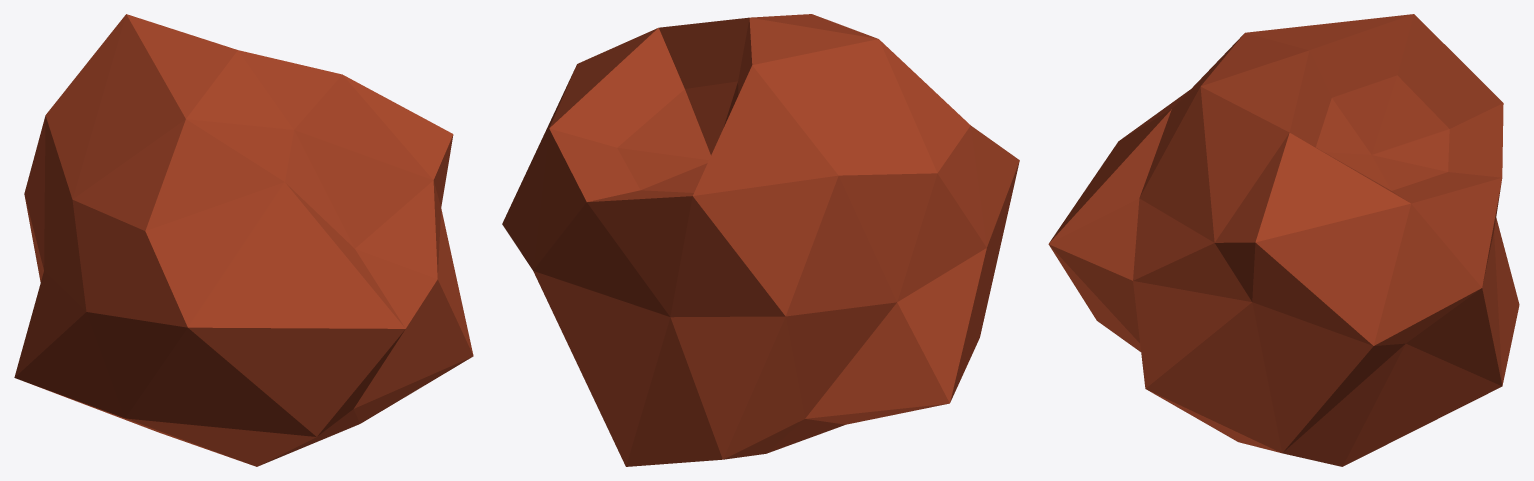
File: asteroid_no_tex.obj
3 views of the same model, side by side, from view 1: azimuth 30°, elevation 25°; view 2: azimuth 150°, elevation 25°; view 3: azimuth 270°, elevation 25° (orthographic). The views are drawn at different scales.
Visible parts, largest first — view 1: Icosphere; view 2: Icosphere; view 3: Icosphere.
Part boxes in pixels (left/top/right/bottom): Icosphere: left=14, top=14, right=473, bottom=466; Icosphere: left=502, top=14, right=1019, bottom=466; Icosphere: left=1048, top=14, right=1519, bottom=466.
Size of the model in its own units: 20.89 by 20.23 by 22.29.
